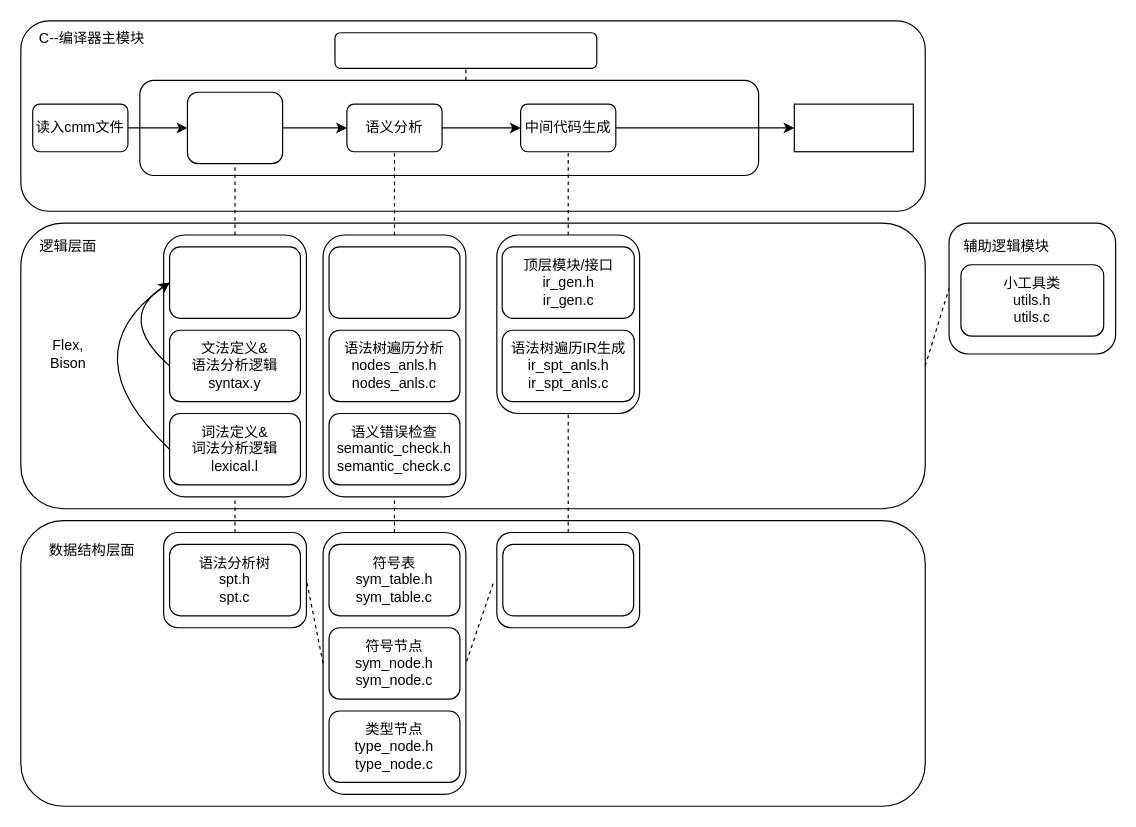
Image size: 1136x827. Some labels were removed from this diagram. Here are the shapes that lost their labels. From the top down, the box of each, then its label:
(334, 32, 597, 68): 顶层文件 : main.c
(186, 91, 283, 164): 词法分析& 语法分析
(793, 103, 913, 152): Output IR中间代码文件
(168, 246, 300, 318): 顶层模块/接口 lex.yy.c syntax.tab.h syntax.tab.c
(328, 246, 460, 318): 顶层模块/接口 semantic_anls.h semantic_anls.c
(502, 543, 634, 616): 中间代码链表 ir_list.h ir_list.c
